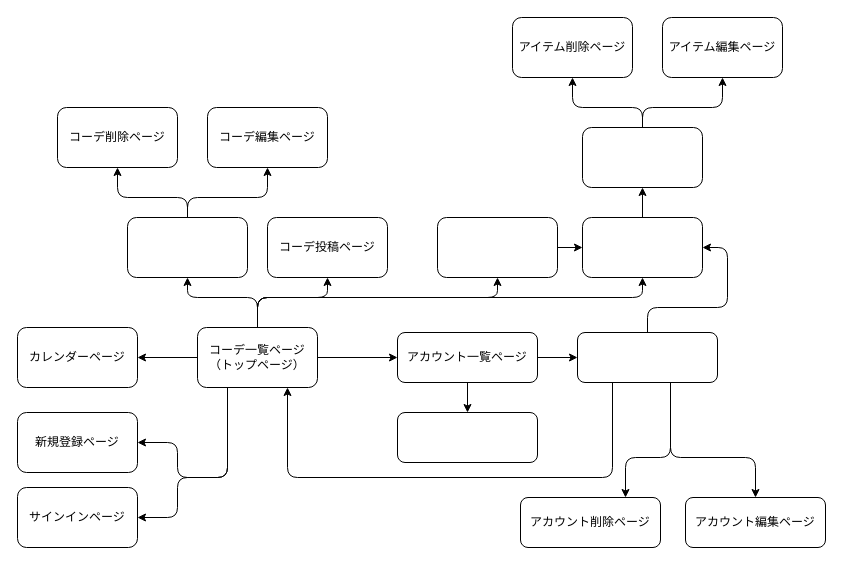
Image size: 843x565. Some labels were removed from this diagram. The centre of each missing label's shape, as x and y in pixels:
アイテム一覧ページ: the point at 642,247
アイテム投稿ページ: the point at 497,247
アイテム詳細ページ: the point at 642,157
アカウント投稿ページ: the point at 467,437
アカウント詳細ページ: the point at 647,357
コーデ詳細ページ: the point at 187,247
